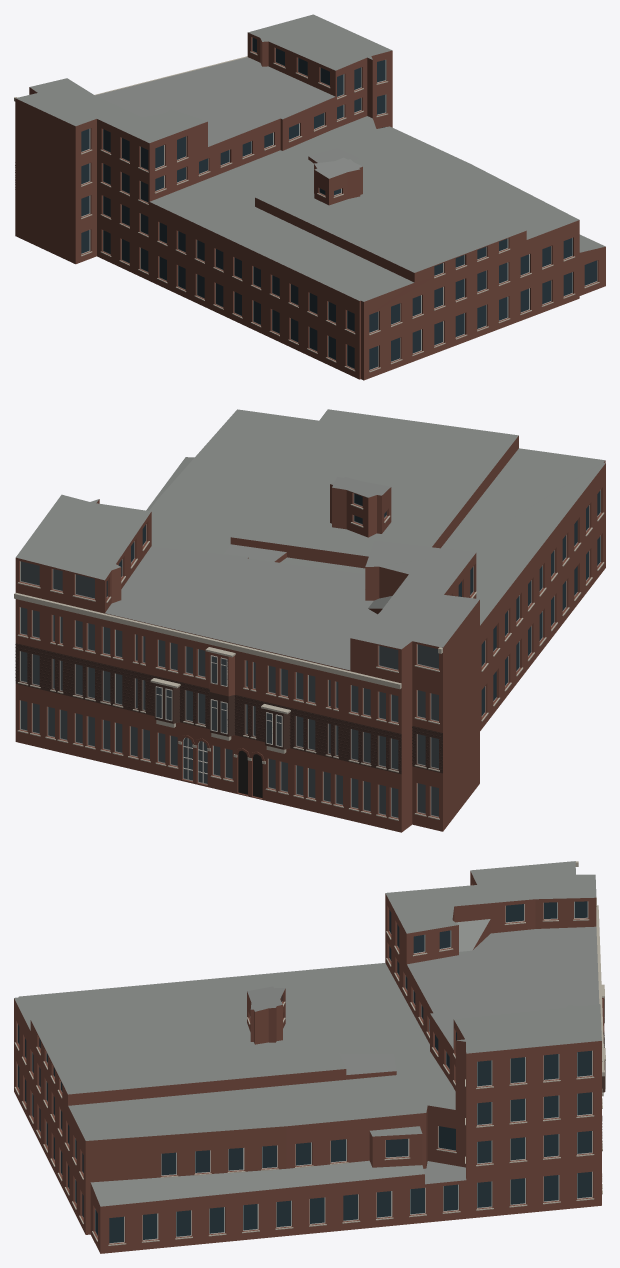
The model's file is recipe-large-haarlemmerweg-315-135676.glb.
3 views of the same model, one above another, from view 1: azimuth 30°, elevation 25°; view 2: azimuth 150°, elevation 25°; view 3: azimuth 270°, elevation 25° (orthographic). The views are drawn at different scales.
Parts seen in each view (by area): view 1: haarlemmerweg-315-135676; view 2: haarlemmerweg-315-135676; view 3: haarlemmerweg-315-135676.
Part boxes in pixels (x1,y1,x2,y2): haarlemmerweg-315-135676: (14, 14, 605, 380); haarlemmerweg-315-135676: (14, 409, 605, 832); haarlemmerweg-315-135676: (14, 861, 605, 1253).
Bounding box in the file's own units: 50.23 × 16.94 × 55.05.
